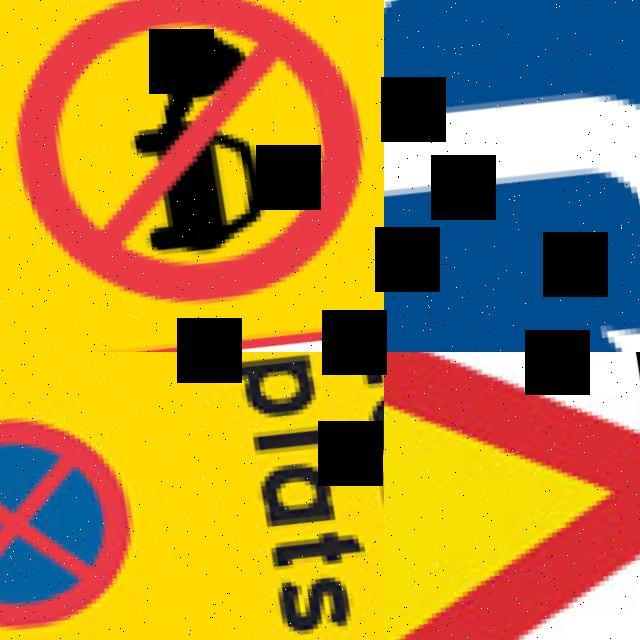136: (384, 352, 640, 640)
177: (0, 352, 384, 640)
70: (0, 0, 384, 352)
Turn right ahead: (384, 0, 640, 352)
